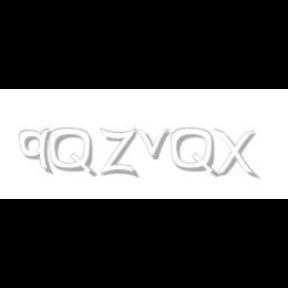Q: (49, 128, 95, 178), (171, 128, 217, 178)
X: (213, 128, 257, 180)
Z: (100, 128, 138, 178)
q: (19, 128, 55, 176)
v: (134, 128, 174, 160)
